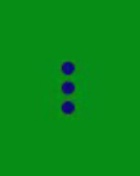ImgButton: (1, 1, 139, 175)
